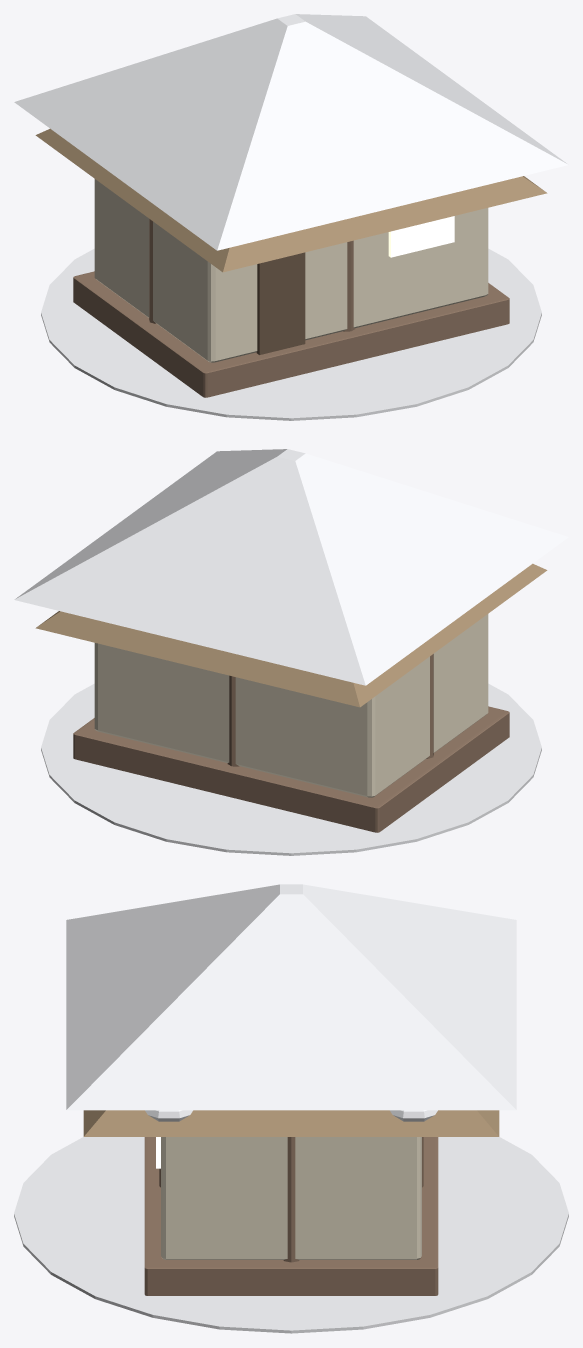
Rendered from snow_kominka.glb.
3 renders of one model, top to bottom at view 1: azimuth 30°, elevation 25°; view 2: azimuth 150°, elevation 25°; view 3: azimuth 270°, elevation 25°, orthographic. The views are drawn at different scales.
Parts seen in each view (by area): view 1: snow_kominka; view 2: snow_kominka; view 3: snow_kominka.
Boxes of the visible parts, left/top/right/bottom form: snow_kominka: left=14, top=14, right=568, bottom=420; snow_kominka: left=14, top=449, right=568, bottom=855; snow_kominka: left=14, top=884, right=568, bottom=1333.
Bounding box in the file's own units: 3.4 × 2.21 × 3.4.
